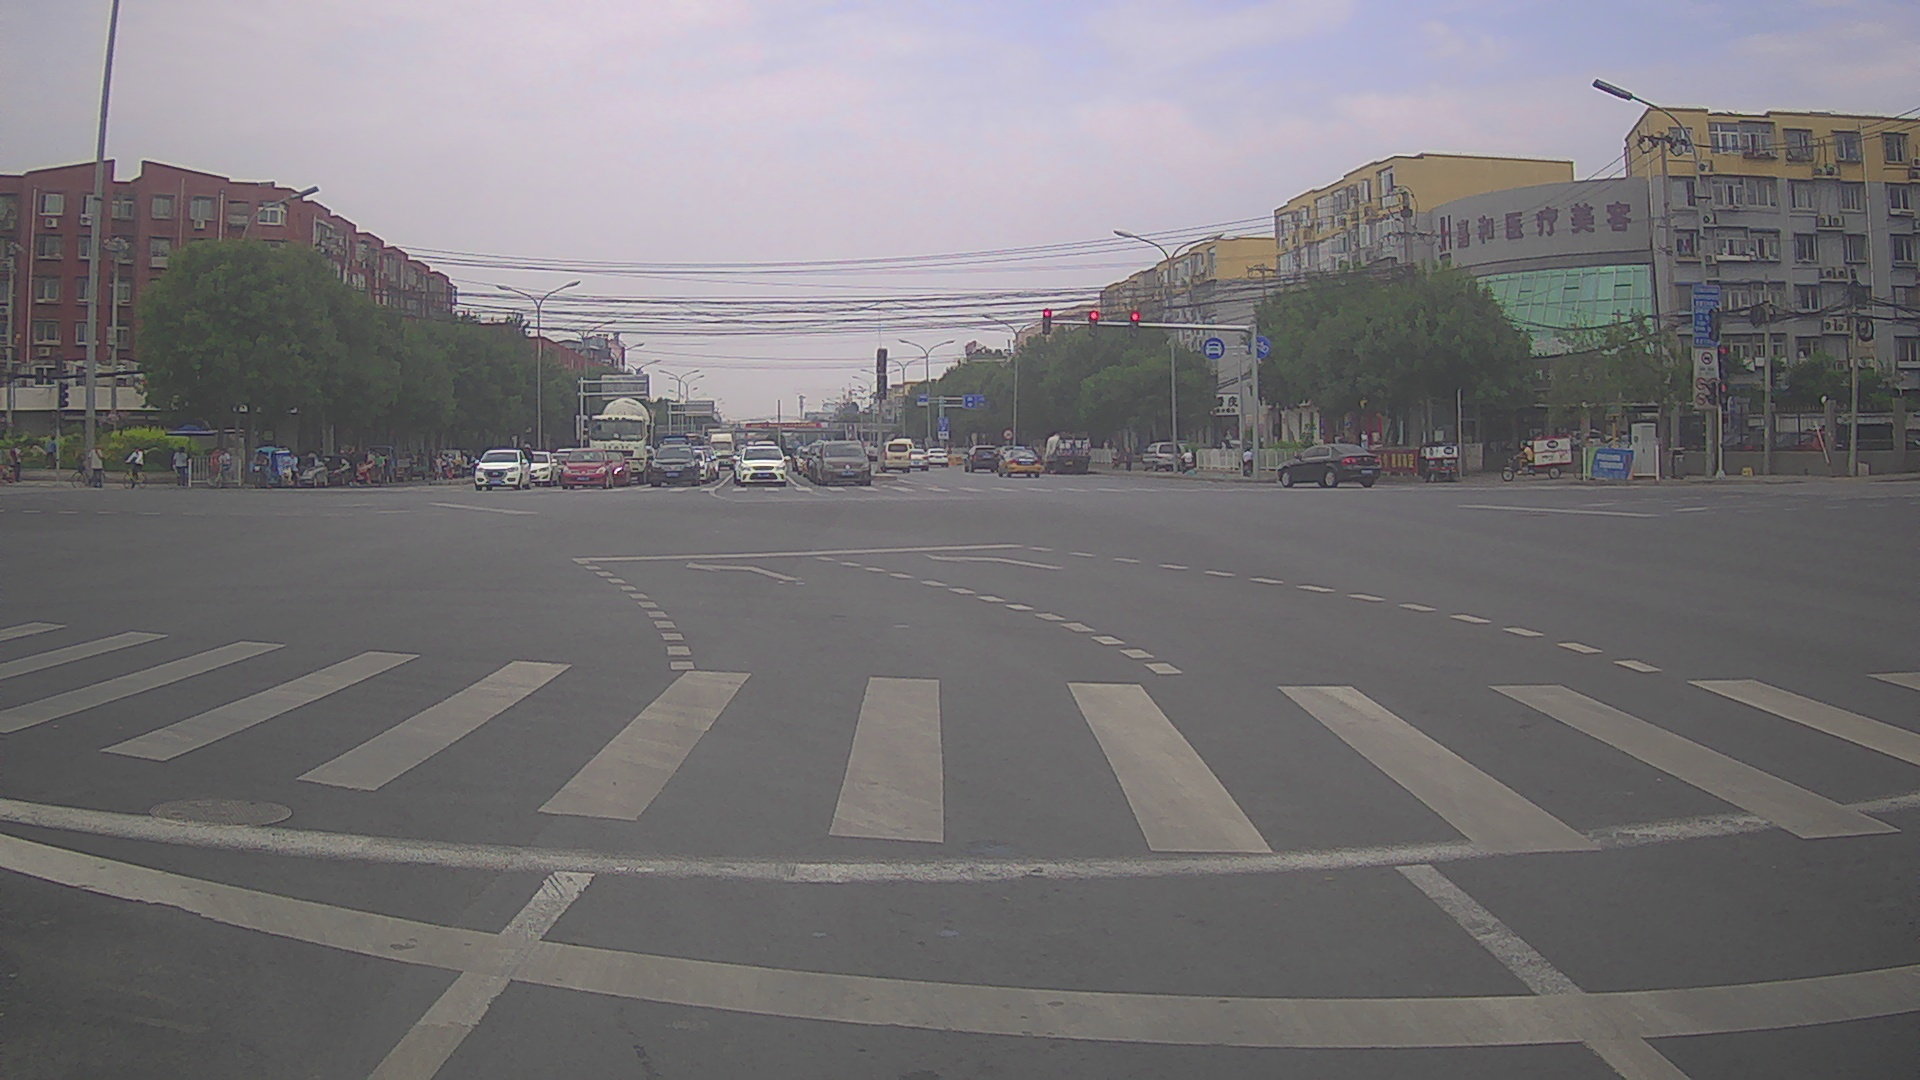car: (1276, 442, 1383, 489), (731, 444, 791, 488), (473, 446, 530, 492), (817, 439, 872, 487), (648, 442, 701, 488), (559, 446, 613, 490), (511, 450, 559, 488), (588, 450, 632, 487), (282, 453, 329, 488), (997, 445, 1044, 478), (312, 453, 357, 487), (961, 443, 999, 473), (902, 448, 930, 471), (924, 447, 949, 468)
cyclist: (69, 443, 107, 489), (122, 446, 148, 490)
ignore: (1721, 420, 1916, 452), (395, 448, 473, 481), (790, 440, 819, 483), (694, 444, 720, 484), (1572, 428, 1611, 444), (662, 432, 708, 445), (551, 447, 571, 472)
motorcyclist: (251, 447, 271, 489), (280, 452, 300, 489), (1238, 446, 1253, 477), (1179, 447, 1195, 474), (1109, 446, 1121, 470)
pedestrian: (171, 444, 188, 487), (521, 442, 534, 490), (218, 447, 232, 487), (9, 441, 23, 482), (44, 432, 57, 469), (210, 446, 222, 483), (433, 450, 444, 482), (445, 452, 455, 480), (459, 450, 468, 479), (1124, 446, 1133, 472), (415, 447, 426, 469), (469, 450, 477, 476)
tricyclelist: (1499, 434, 1573, 482), (1415, 439, 1459, 483), (365, 443, 397, 488)
truck: (586, 395, 655, 485), (1043, 435, 1092, 475), (705, 427, 736, 471)
van: (1141, 440, 1182, 472), (878, 440, 912, 473)
